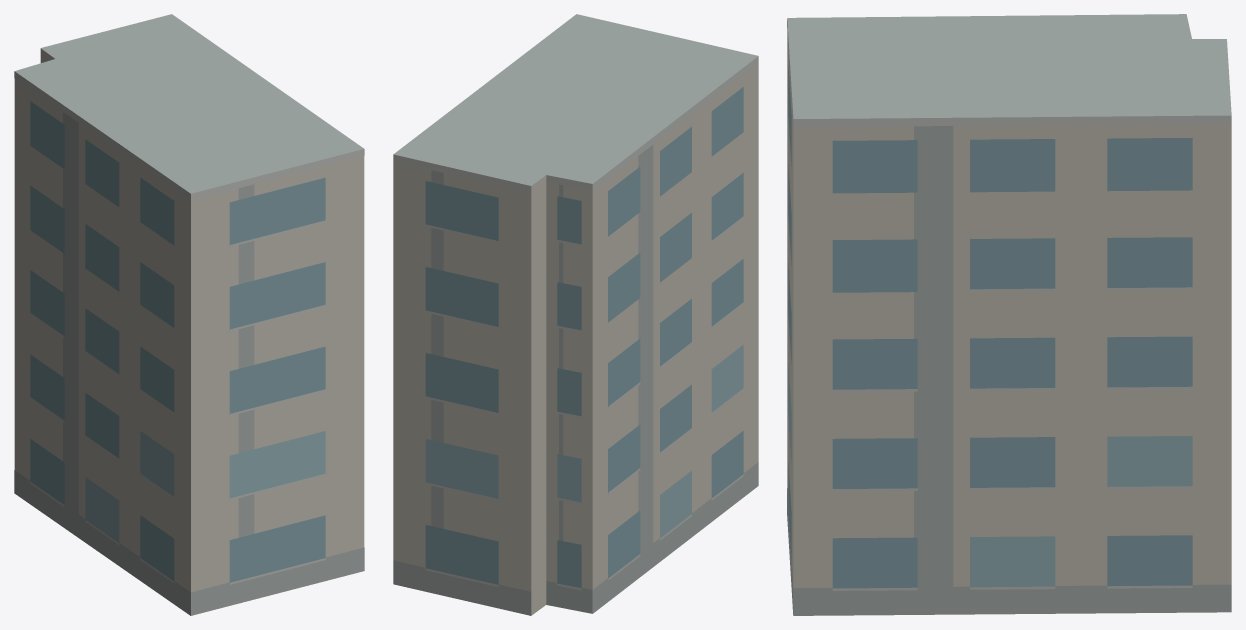
The model's file is survey-upis-32801531.glb.
3 renders of one model, left to right at view 1: azimuth 30°, elevation 25°; view 2: azimuth 150°, elevation 25°; view 3: azimuth 270°, elevation 25°, orthographic. The views are drawn at different scales.
Parts seen in each view (by area): view 1: survey-upis-32801531.tmp; view 2: survey-upis-32801531.tmp; view 3: survey-upis-32801531.tmp.
Part boxes in pixels (left/top/right/bottom): survey-upis-32801531.tmp: left=14, top=14, right=364, bottom=615; survey-upis-32801531.tmp: left=393, top=14, right=758, bottom=615; survey-upis-32801531.tmp: left=787, top=14, right=1231, bottom=615.
Bounding box in the file's own units: 6.7 × 14.75 × 11.97.
